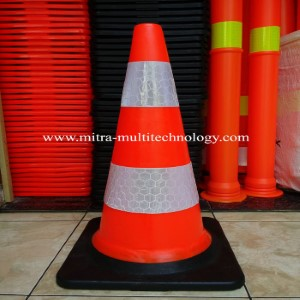traffic cone: (56, 23, 245, 292)
